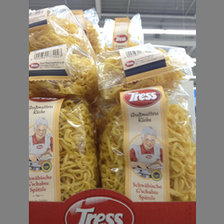pasta: (98, 89, 196, 202), (29, 92, 99, 202), (97, 45, 194, 86)
